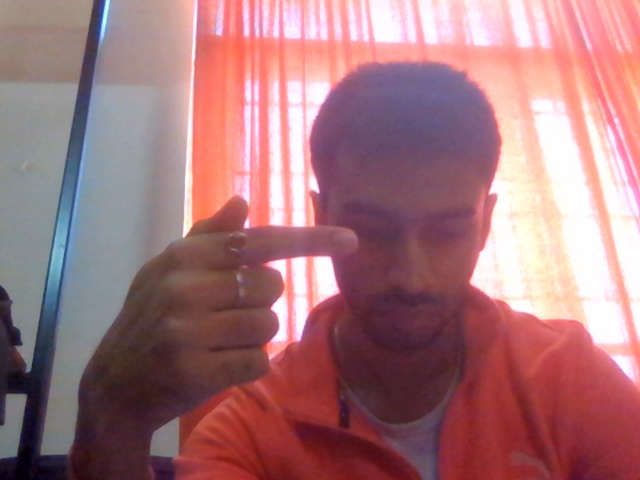G: (64, 167, 371, 480)
